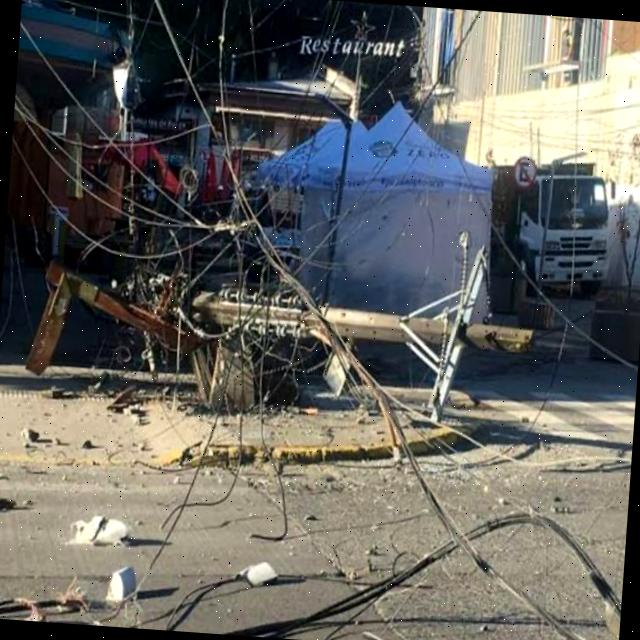Broken Pole: (26, 249, 534, 469)
